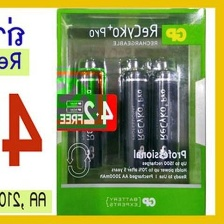battery: (71, 56, 108, 172), (146, 67, 186, 170), (119, 61, 156, 169)
